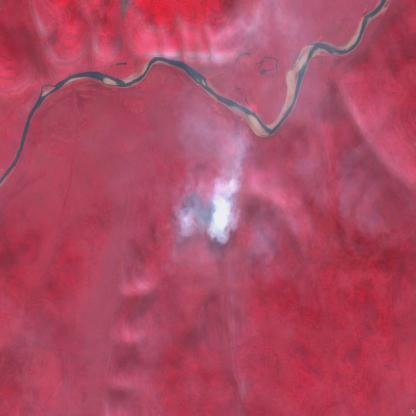fire: (176, 184, 242, 244)
